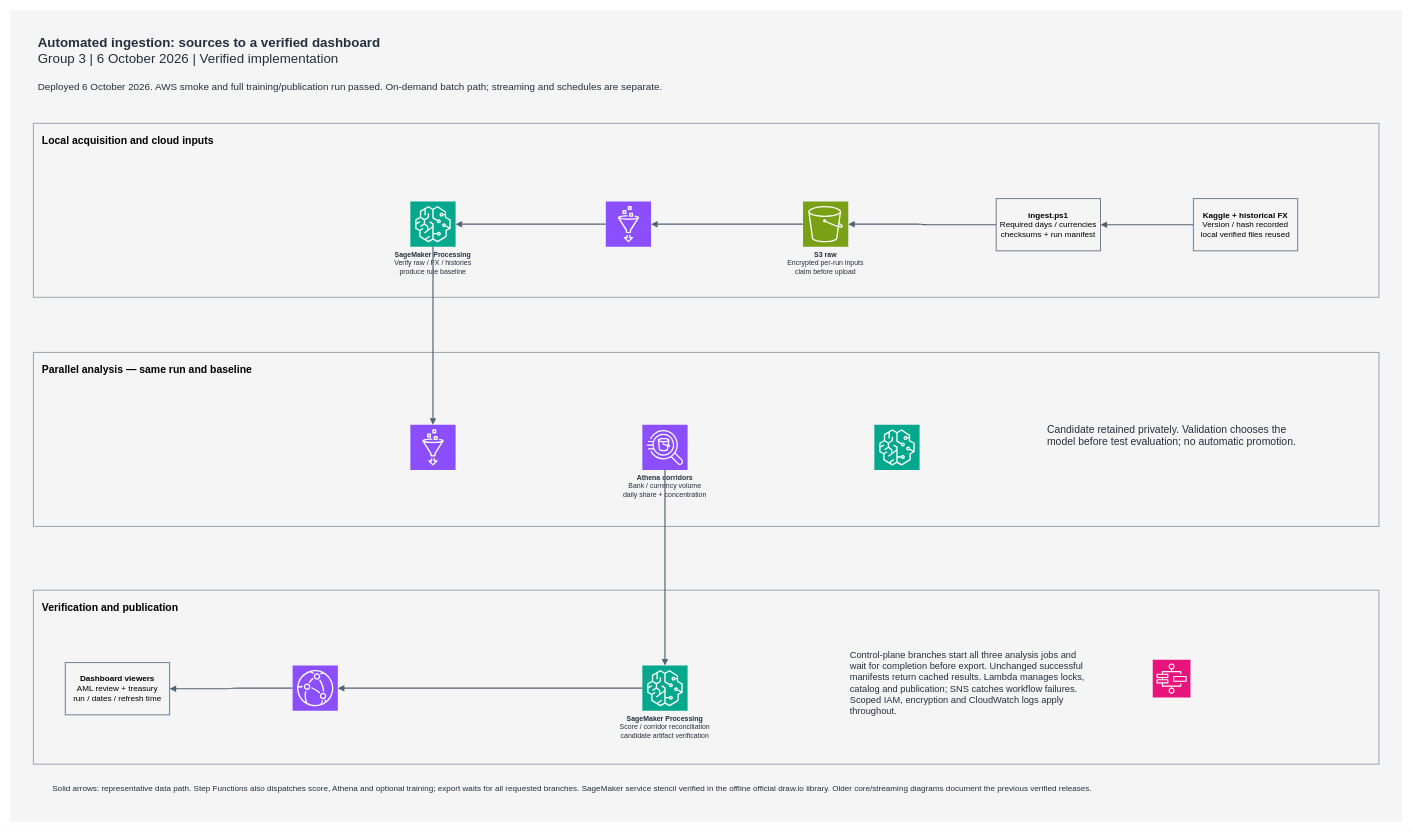
Some shapes in this 1412 by 832 pixel diagram are drawn without their labels. The shapes that lost their labels are listed below. From the top down, each one's centre as x and y in pixels, then its label:
(x=628, y=224): Glue curation String IDs / account joins causal features + partitions
(x=433, y=447): Glue AML scoring Frozen model / no labels complete transaction scores
(x=897, y=447): SageMaker training Optional -Train candidate chronological comparison
(x=315, y=688): CloudFront + S3 Versioned immutable assets conditional release pointer
(x=1171, y=678): Step Functions Control plane runs all stages no paid-compute retries
